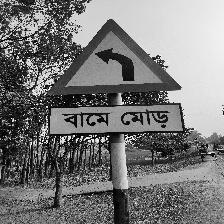Left-Turn: (45, 19, 184, 138)
